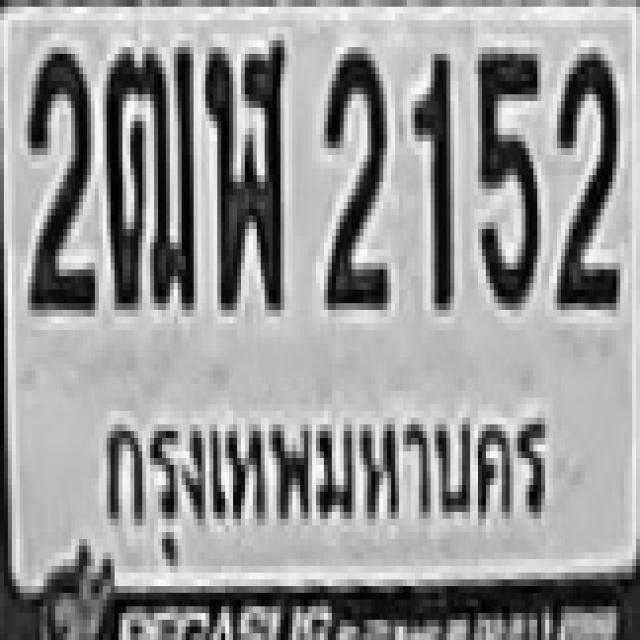1: (413, 47, 455, 314)
2: (320, 41, 390, 314), (553, 47, 623, 314), (29, 52, 96, 315)
27ThorPhuThao: (103, 40, 197, 314)
5: (474, 47, 543, 314)
51LorChula: (203, 34, 288, 312)
Bangkok: (87, 375, 571, 562)
